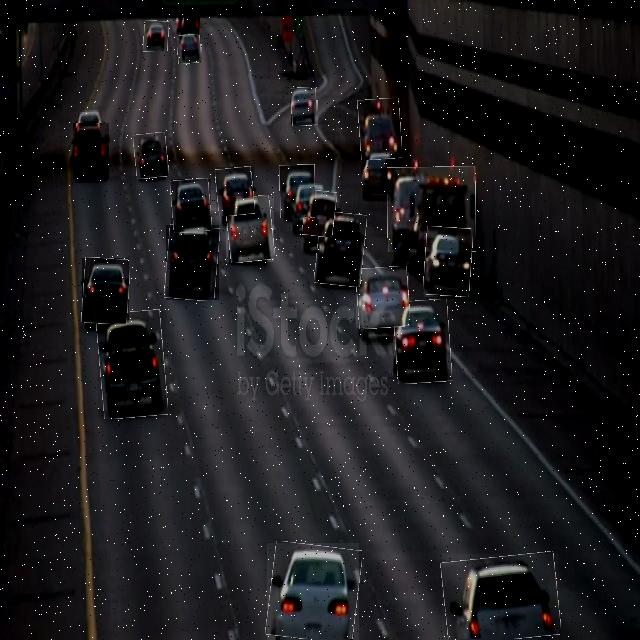Car: (442, 554, 559, 640), (267, 543, 359, 640), (394, 300, 452, 384), (166, 225, 219, 300), (316, 212, 366, 286), (424, 227, 472, 297), (356, 268, 409, 328), (226, 196, 274, 262), (82, 258, 129, 323), (358, 98, 401, 160), (171, 179, 211, 232), (280, 165, 315, 218), (217, 167, 254, 216), (134, 133, 168, 179), (304, 190, 336, 237), (292, 88, 318, 126), (144, 21, 169, 52), (178, 34, 202, 64), (180, 12, 200, 34)
Truck: (388, 167, 476, 252), (98, 311, 166, 418), (74, 123, 110, 179)
